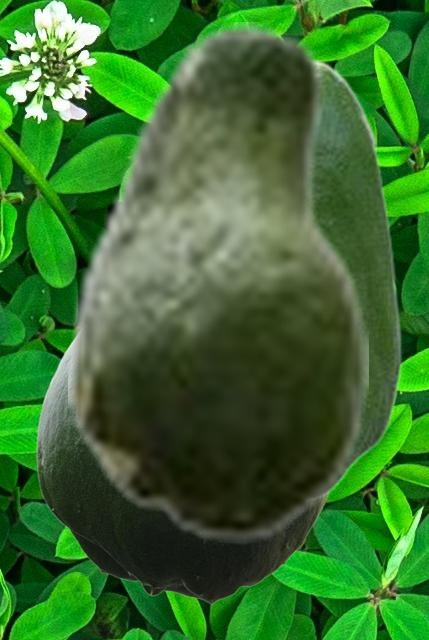sayote: (68, 22, 367, 544), (36, 344, 329, 604), (317, 55, 402, 499)
